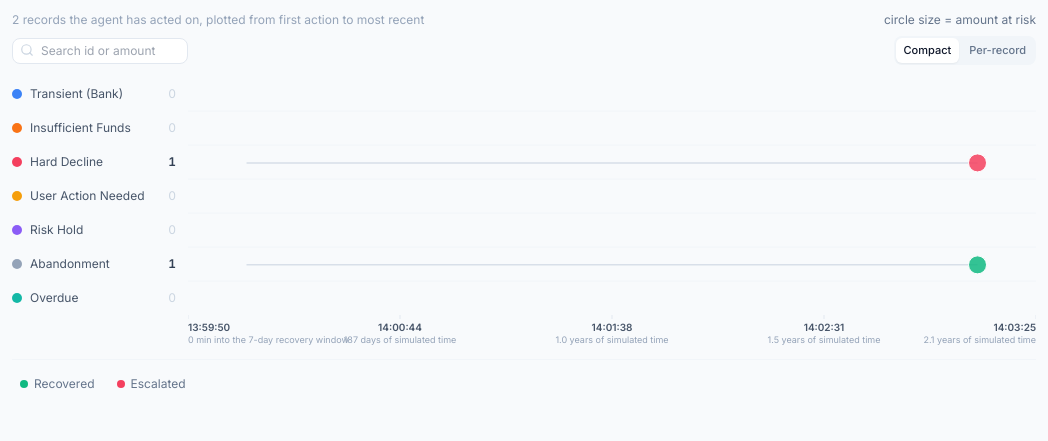
Test: HistoryTimeline: compact view is the default (Unit AP) › shows an honest empty state, not a blank panel, when the combined filters match nothing
This screenshot has width=1048, height=441.
Click the button "Abandonment 1": click(100, 264) left=12, top=246, right=188, bottom=280
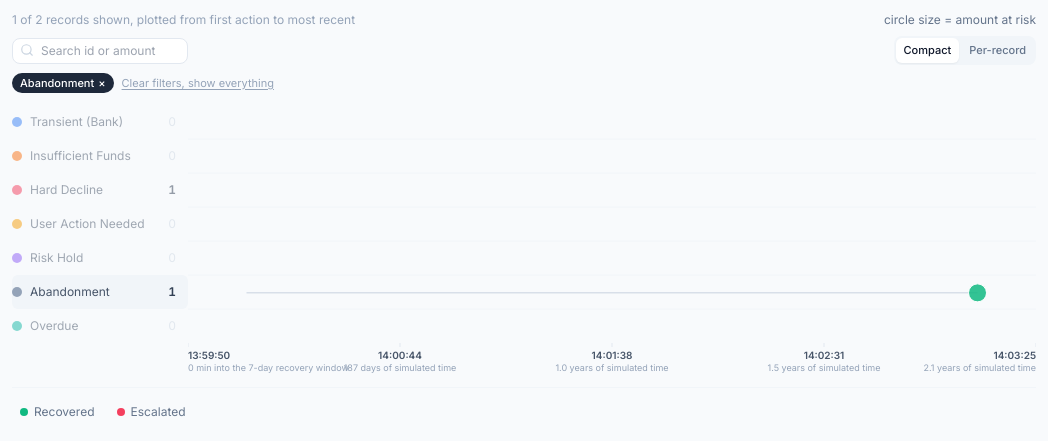
Click the button "Escalated": click(151, 412) left=108, top=400, right=194, bottom=424
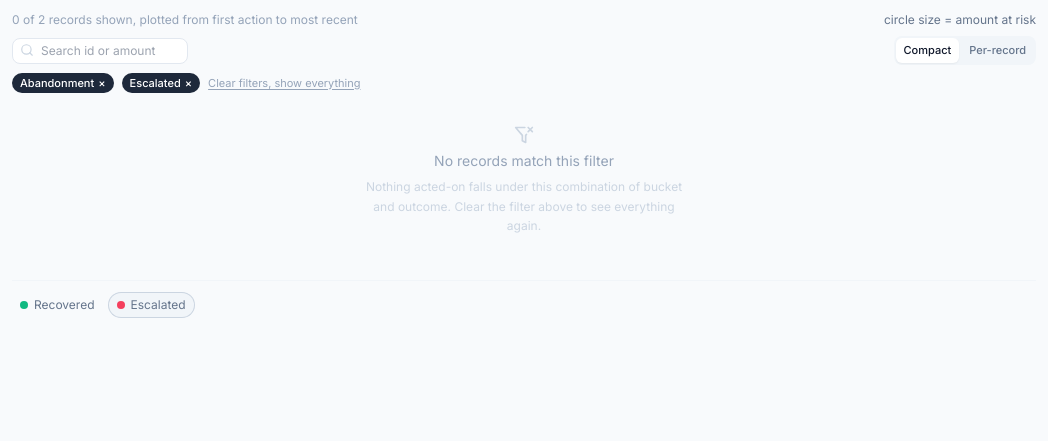
Expected: the button with test id "clear-filters" is shown, left=208, top=74, right=360, bottom=91
Expected: the text "No records match this filter" is shown, left=434, top=151, right=614, bottom=171
